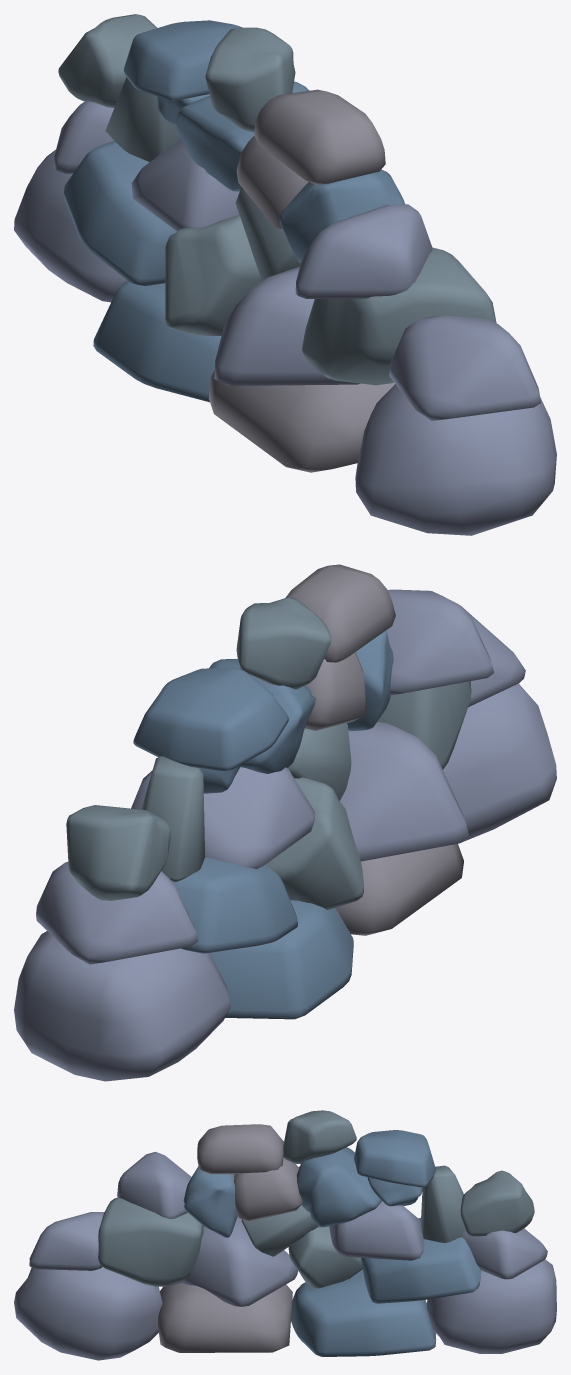
Rendered from Wall.gltf.
The picture shows the model from 3 angles, top to bottom: view 1: azimuth 30°, elevation 25°; view 2: azimuth 150°, elevation 25°; view 3: azimuth 270°, elevation 25°; orthographic projection. The views are drawn at different scales.
Parts seen in each view (by area): view 1: Wall; view 2: Wall; view 3: Wall.
Boxes of the visible parts, x1=… form: Wall: x1=14, y1=14, x2=556, y2=535; Wall: x1=14, y1=564, x2=556, y2=1081; Wall: x1=14, y1=1110, x2=556, y2=1360.
Bounding box in the file's own units: 0.7175 × 1.06 × 2.32.
